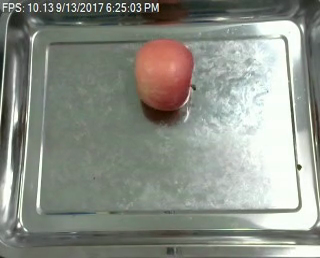Apple: (130, 38, 197, 113)
